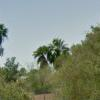Tree: (31, 35, 79, 89)
